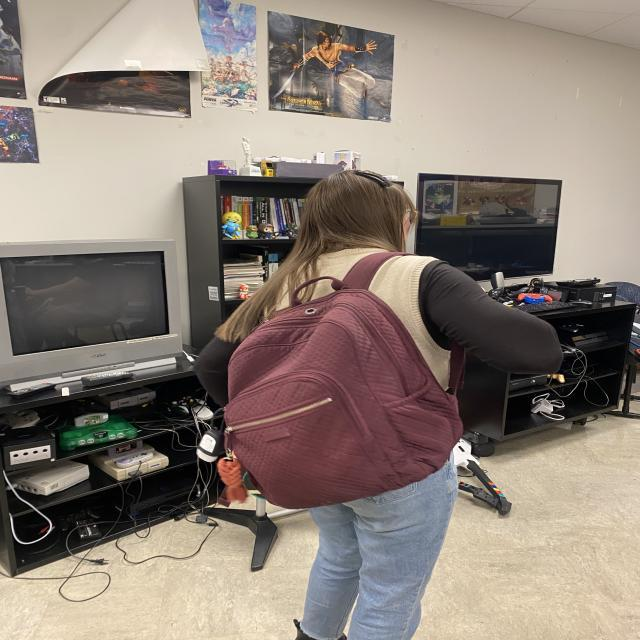Backpacks: (217, 294, 463, 510)
